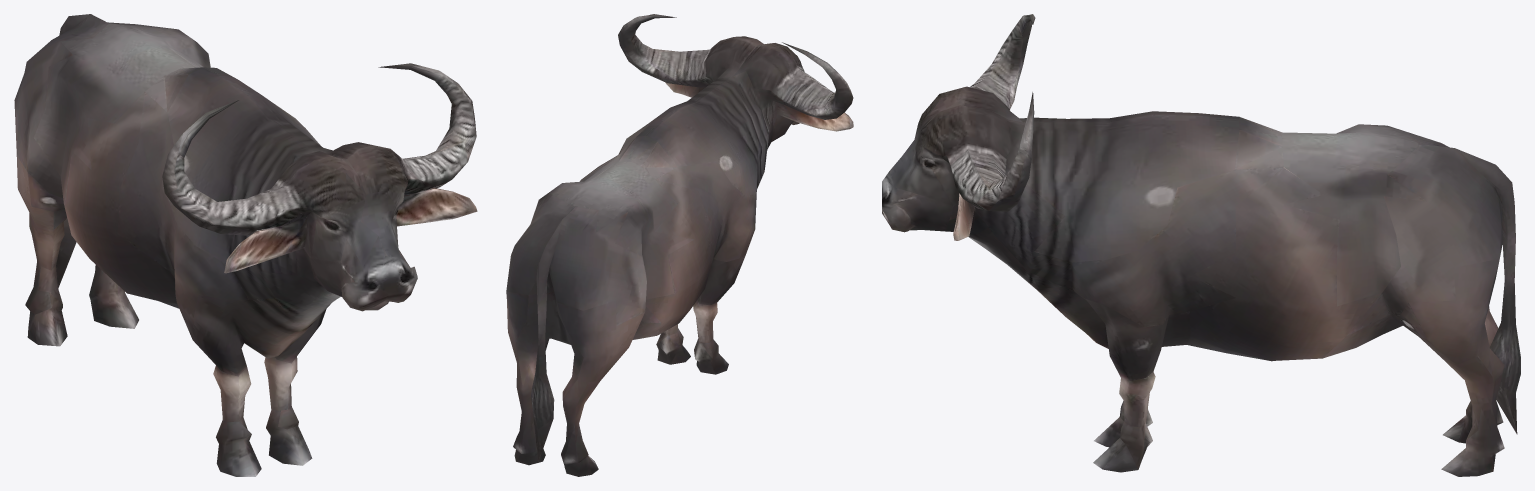
Rendered from buffalo.glb.
3 renders of one model, left to right at view 1: azimuth 30°, elevation 25°; view 2: azimuth 150°, elevation 25°; view 3: azimuth 270°, elevation 25°, orthographic. The views are drawn at different scales.
Parts seen in each view (by area): view 1: mesh_node; view 2: mesh_node; view 3: mesh_node.
Part boxes in pixels (left/top/right/bottom): mesh_node: left=14, top=14, right=477, bottom=476; mesh_node: left=506, top=14, right=853, bottom=476; mesh_node: left=882, top=14, right=1520, bottom=476.
Bounding box in the file's own units: 0.5351 × 0.6816 × 1.
1 material, 1 textured.
